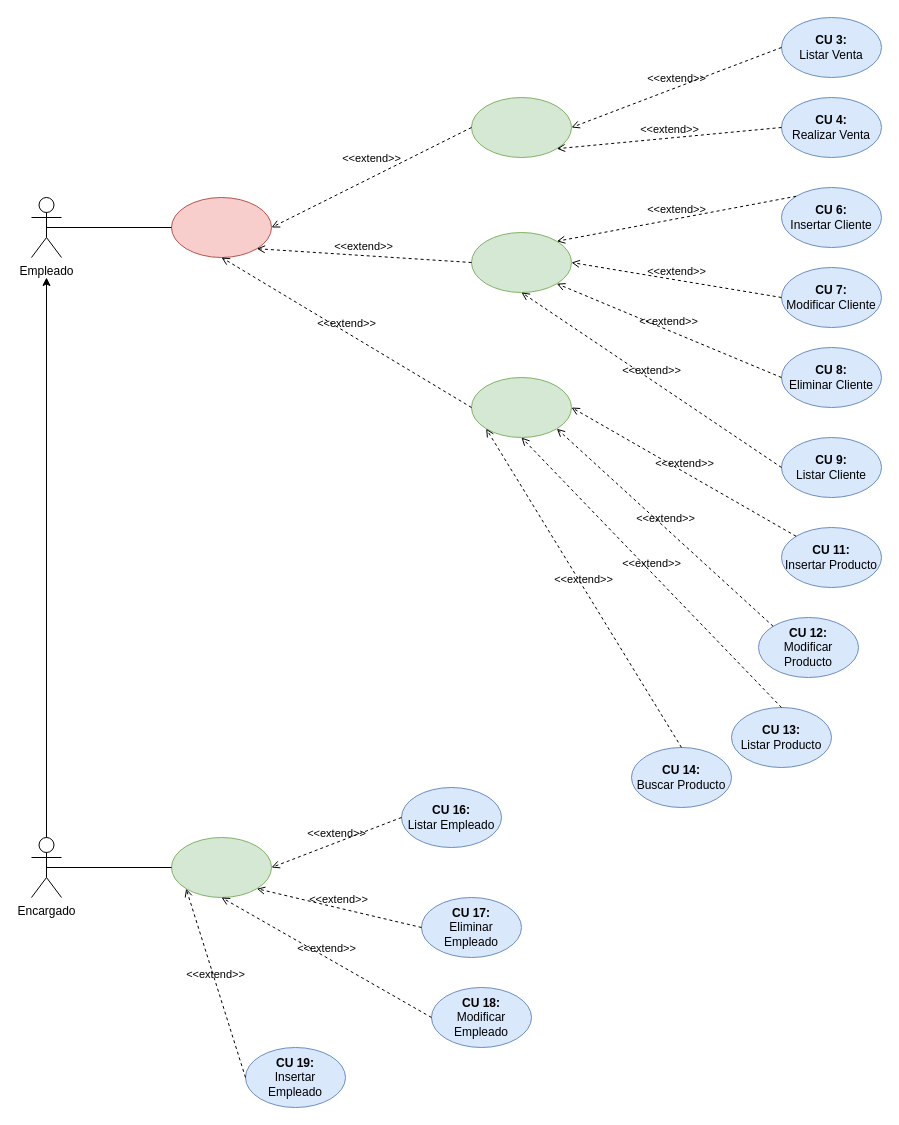
This 899x1125 diagram has some shape labels left out. The box of each missing label's shape, as (x1, y1, x2, y2) in pixels:
CU 10: Gestionar Productos: (470, 376, 572, 438)
CU 15: Gestionar Empleado: (170, 836, 272, 898)
CU 1: Autenticarse: (170, 196, 272, 258)
CU 2: Gestionar Ventas: (470, 96, 572, 158)
CU 5: Gestionar Clientes: (470, 232, 572, 292)
